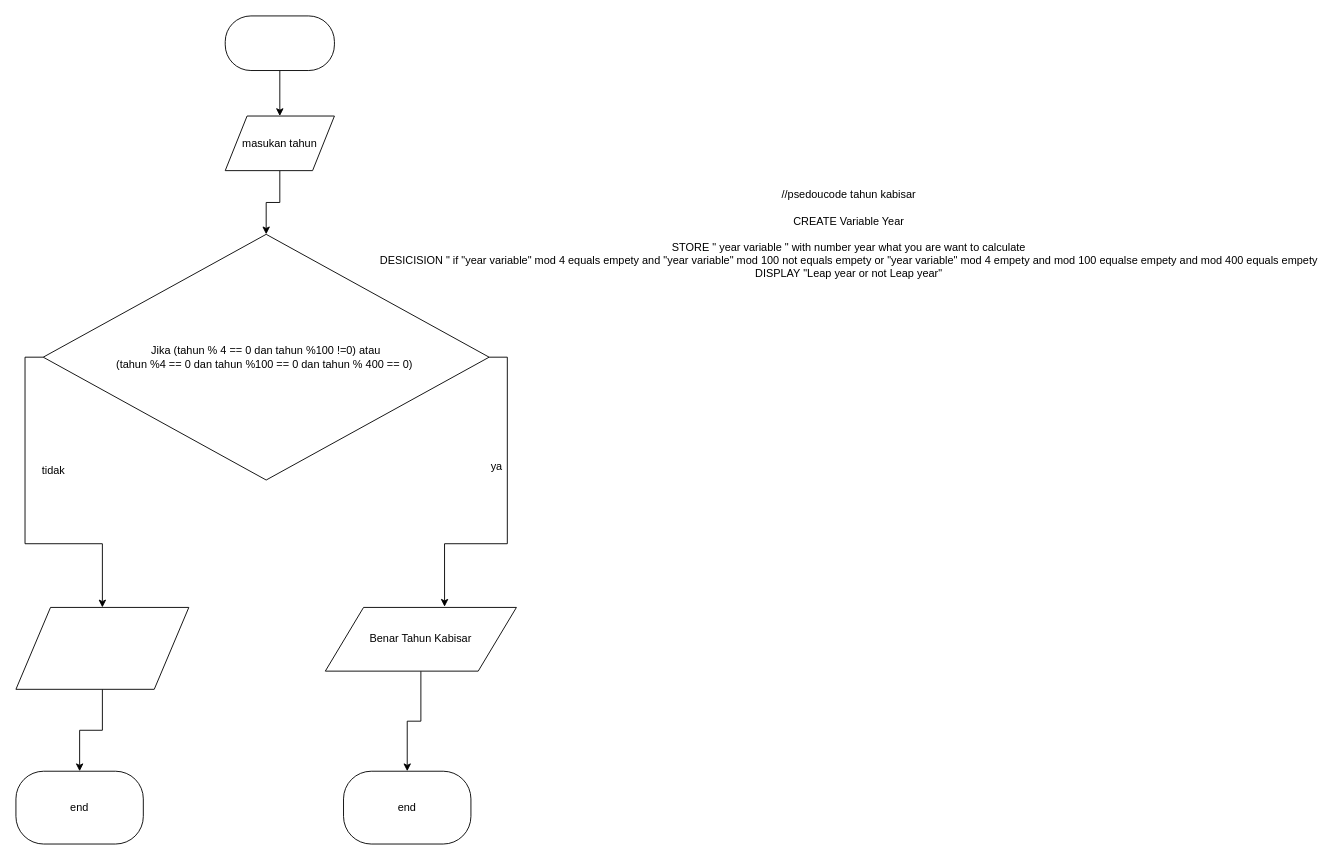
The diagram is 1342 pixels wide and 860 high, and some of its shapes have lost their labels. Here are the shapes that lost their labels. From the top down, the box of each, then its label:
(224, 15, 334, 71): Start
(15, 607, 189, 689): Bukan tahun kabisat
